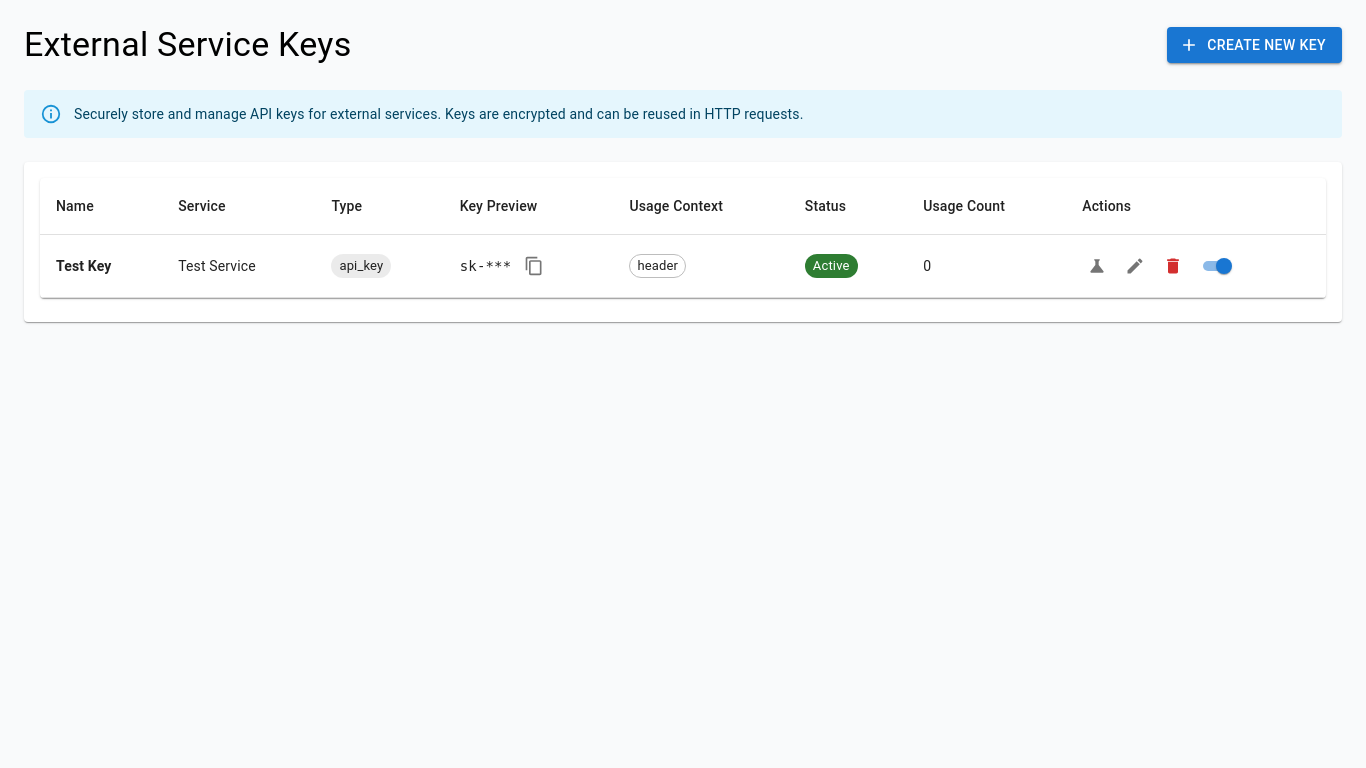
displays test results
Expected: the text "Test Service" is shown, [162,234,316,298]
Click the button named "Test key".
click(1097, 266)  # box [1082,251,1112,281]
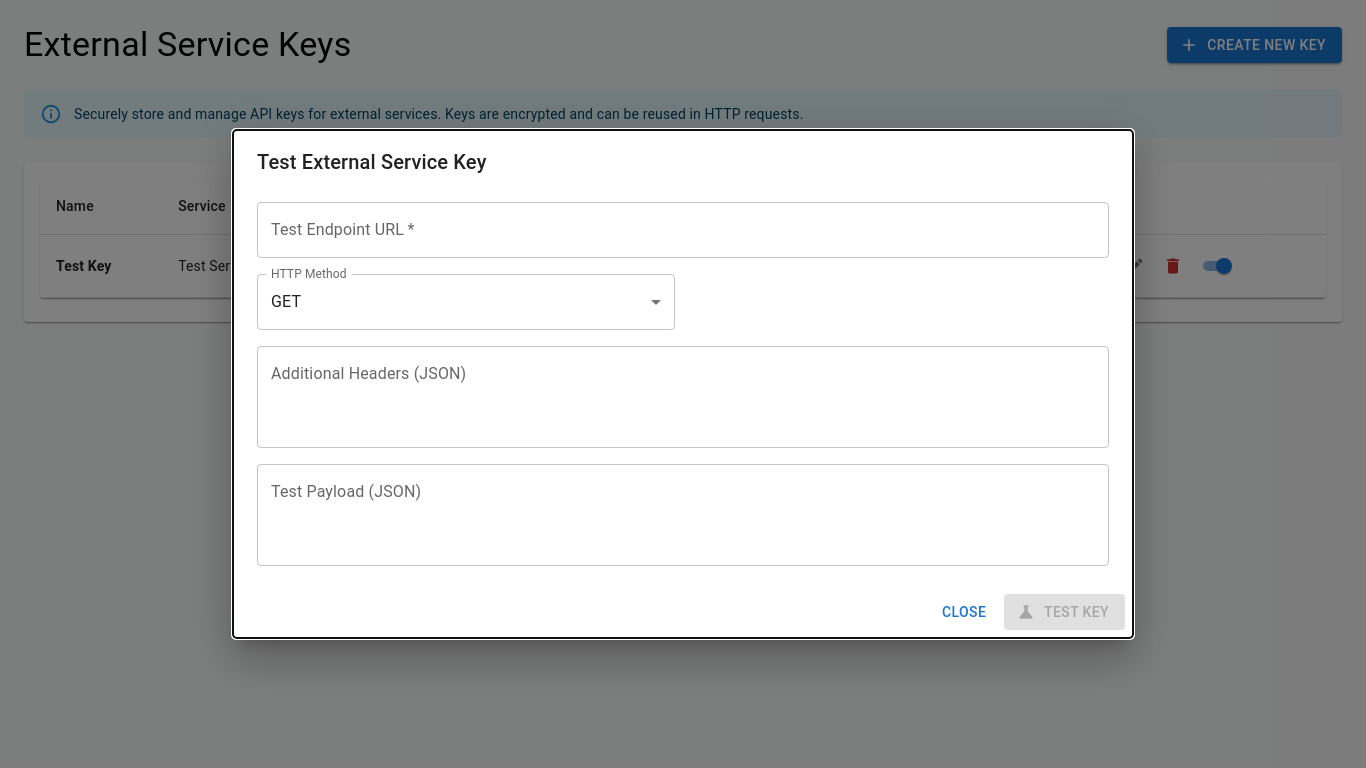
Expected: the heading "Test External Service Key" is shown, [257,150,486,174]
